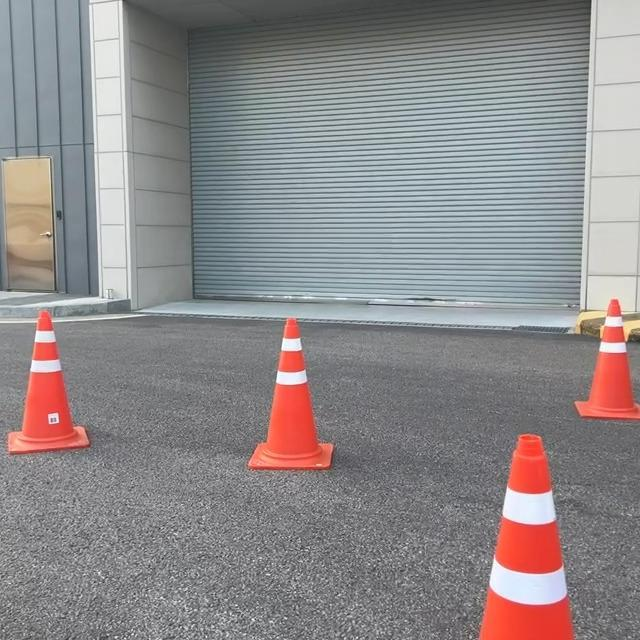fallen_object: (454, 417, 640, 639), (169, 330, 345, 473), (0, 285, 123, 472), (526, 304, 638, 422)
